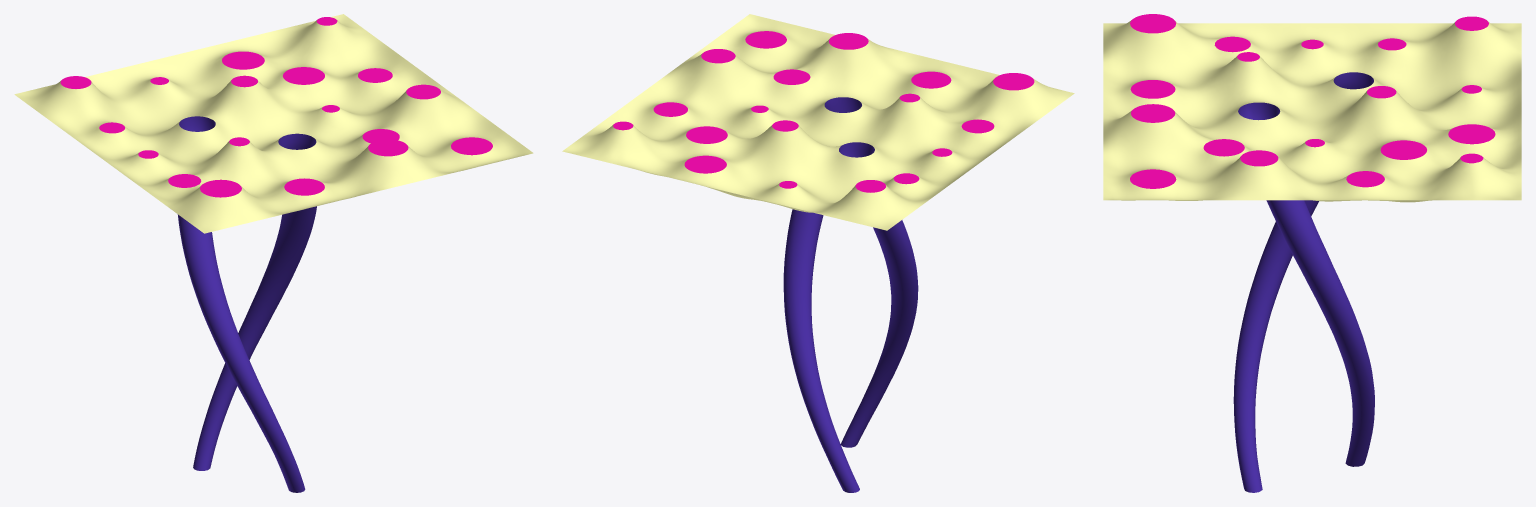
The model's file is Roof_02_columns_simple.fbx.
3 renders of one model, left to right at view 1: azimuth 30°, elevation 25°; view 2: azimuth 150°, elevation 25°; view 3: azimuth 270°, elevation 25°, orthographic. The views are drawn at different scales.
Visible parts, largest first — view 1: Roof_v2_columns_simple; view 2: Roof_v2_columns_simple; view 3: Roof_v2_columns_simple.
Boxes of the visible parts, box(x1,y1,x2,y2) form: Roof_v2_columns_simple: box(14, 14, 533, 492); Roof_v2_columns_simple: box(562, 14, 1074, 492); Roof_v2_columns_simple: box(1103, 14, 1521, 492).
Bounding box in the file's own units: 5 × 5.27 × 5.
